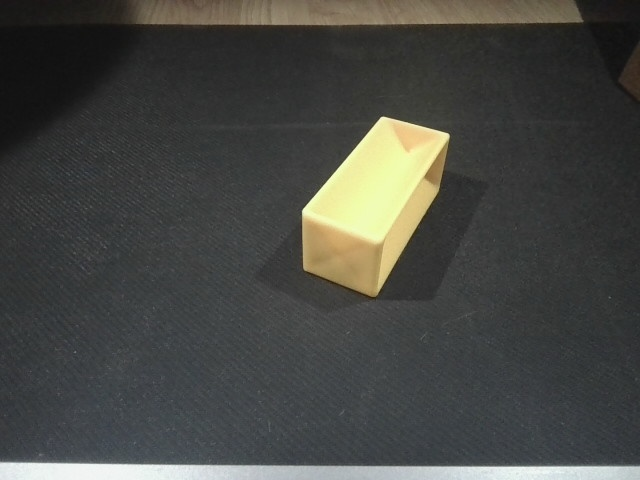YellowSample: (298, 110, 456, 305)
